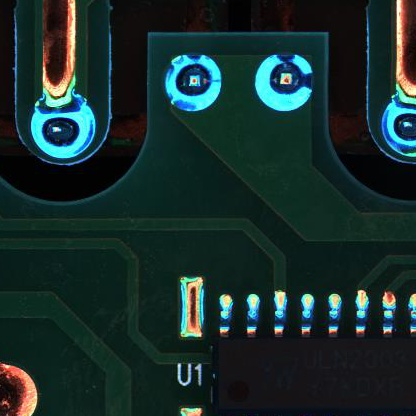spot: (32, 96, 96, 158), (253, 54, 316, 113), (164, 52, 224, 113)
